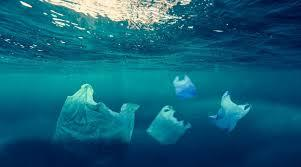Trash: (43, 77, 143, 153), (211, 77, 250, 154), (150, 96, 182, 153)
